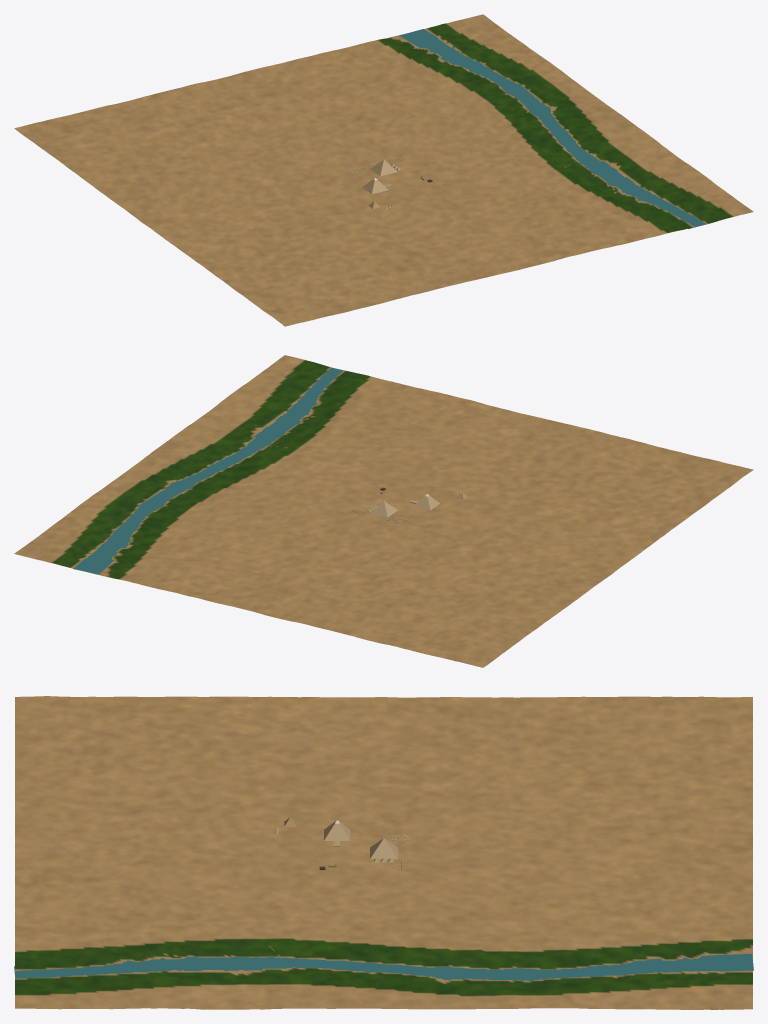
Rendered from world.glb.
The picture shows the model from 3 angles, top to bottom: view 1: azimuth 30°, elevation 25°; view 2: azimuth 150°, elevation 25°; view 3: azimuth 270°, elevation 25°; orthographic projection. The views are drawn at different scales.
Parts seen in each view (by area): view 1: Terrain, Nile; view 2: Terrain, Nile; view 3: Terrain, Nile.
Boxes of the visible parts, bbox=[...] form: Terrain: bbox=[14, 14, 753, 326]; Nile: bbox=[399, 29, 706, 228]; Terrain: bbox=[14, 355, 753, 667]; Nile: bbox=[73, 367, 344, 574]; Terrain: bbox=[15, 696, 752, 1009]; Nile: bbox=[14, 954, 753, 980].
Bounding box in the file's own units: 6000 × 208 × 6015.
